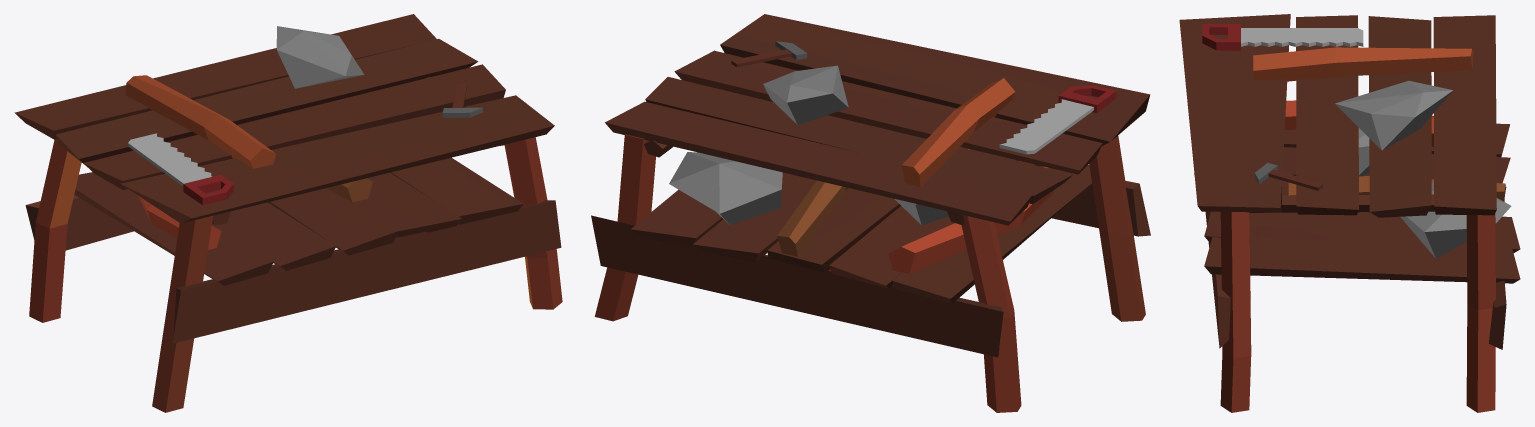
Rendered from Workbench.fbx.
3 views of the same model, side by side, from view 1: azimuth 30°, elevation 25°; view 2: azimuth 150°, elevation 25°; view 3: azimuth 270°, elevation 25° (orthographic).
Parts seen in each view (by area): view 1: Workbench; view 2: Workbench; view 3: Workbench.
Boxes of the visible parts, bbox=[...] form: Workbench: bbox=[14, 14, 562, 412]; Workbench: bbox=[591, 14, 1150, 412]; Workbench: bbox=[1179, 14, 1520, 412].
Size of the model in its own units: 1.83 by 1.02 by 1.29.
